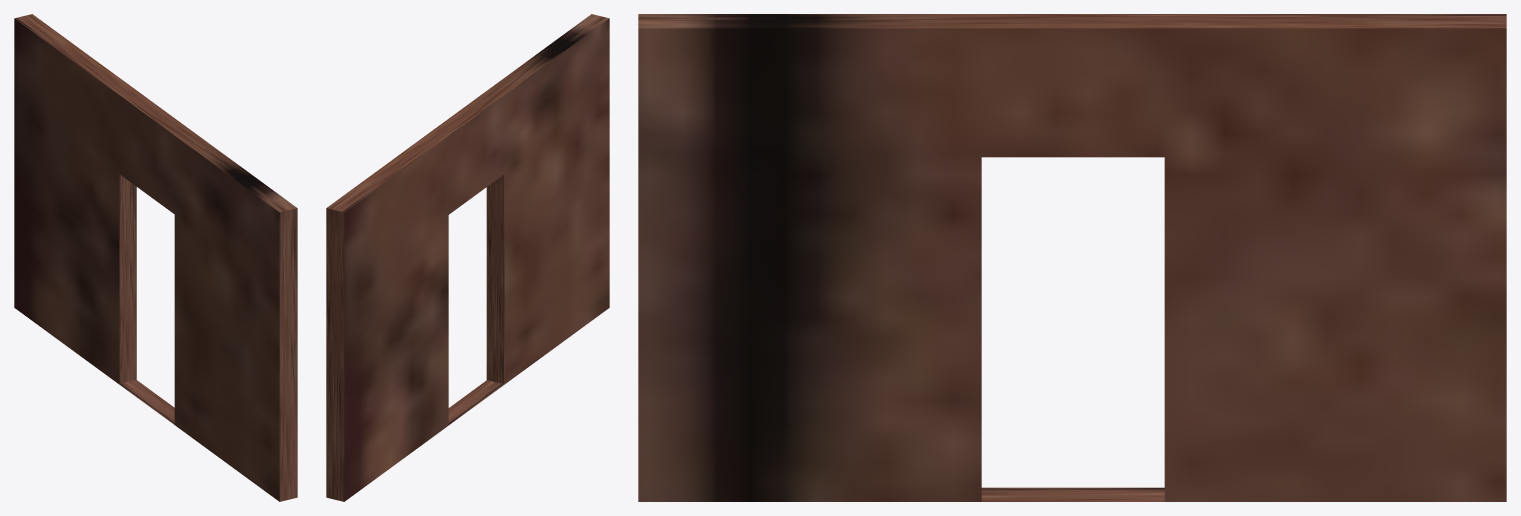
Rendered from doorWall.fbx.
3 views of the same model, side by side, from view 1: azimuth 30°, elevation 25°; view 2: azimuth 150°, elevation 25°; view 3: azimuth 270°, elevation 25° (orthographic). The views are drawn at different scales.
Visible parts, largest first — view 1: Cube.001; view 2: Cube.001; view 3: Cube.001.
Boxes of the visible parts, left/top/right/bottom form: Cube.001: left=14, top=14, right=297, bottom=501; Cube.001: left=326, top=14, right=609, bottom=501; Cube.001: left=638, top=14, right=1506, bottom=501.
Bounding box in the file's own units: 97.06 × 1503 × 2495.
Materials: 1 (1 with a texture image).
